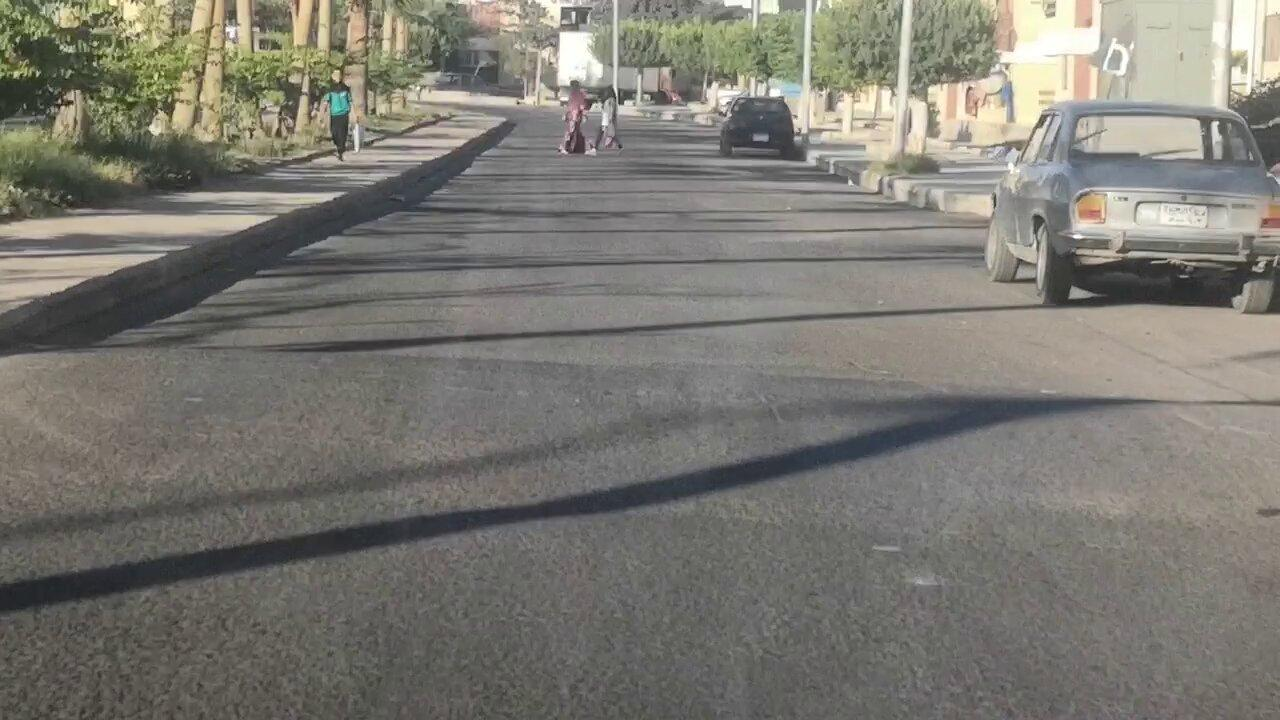Bump: (0, 347, 1279, 547)
